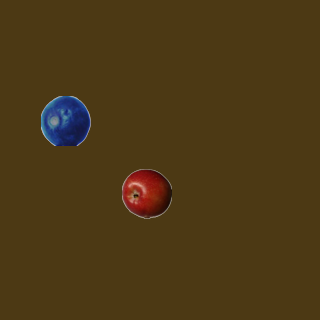Apple Braeburn: (121, 168, 171, 218)
Huckleberry: (40, 95, 90, 145)
